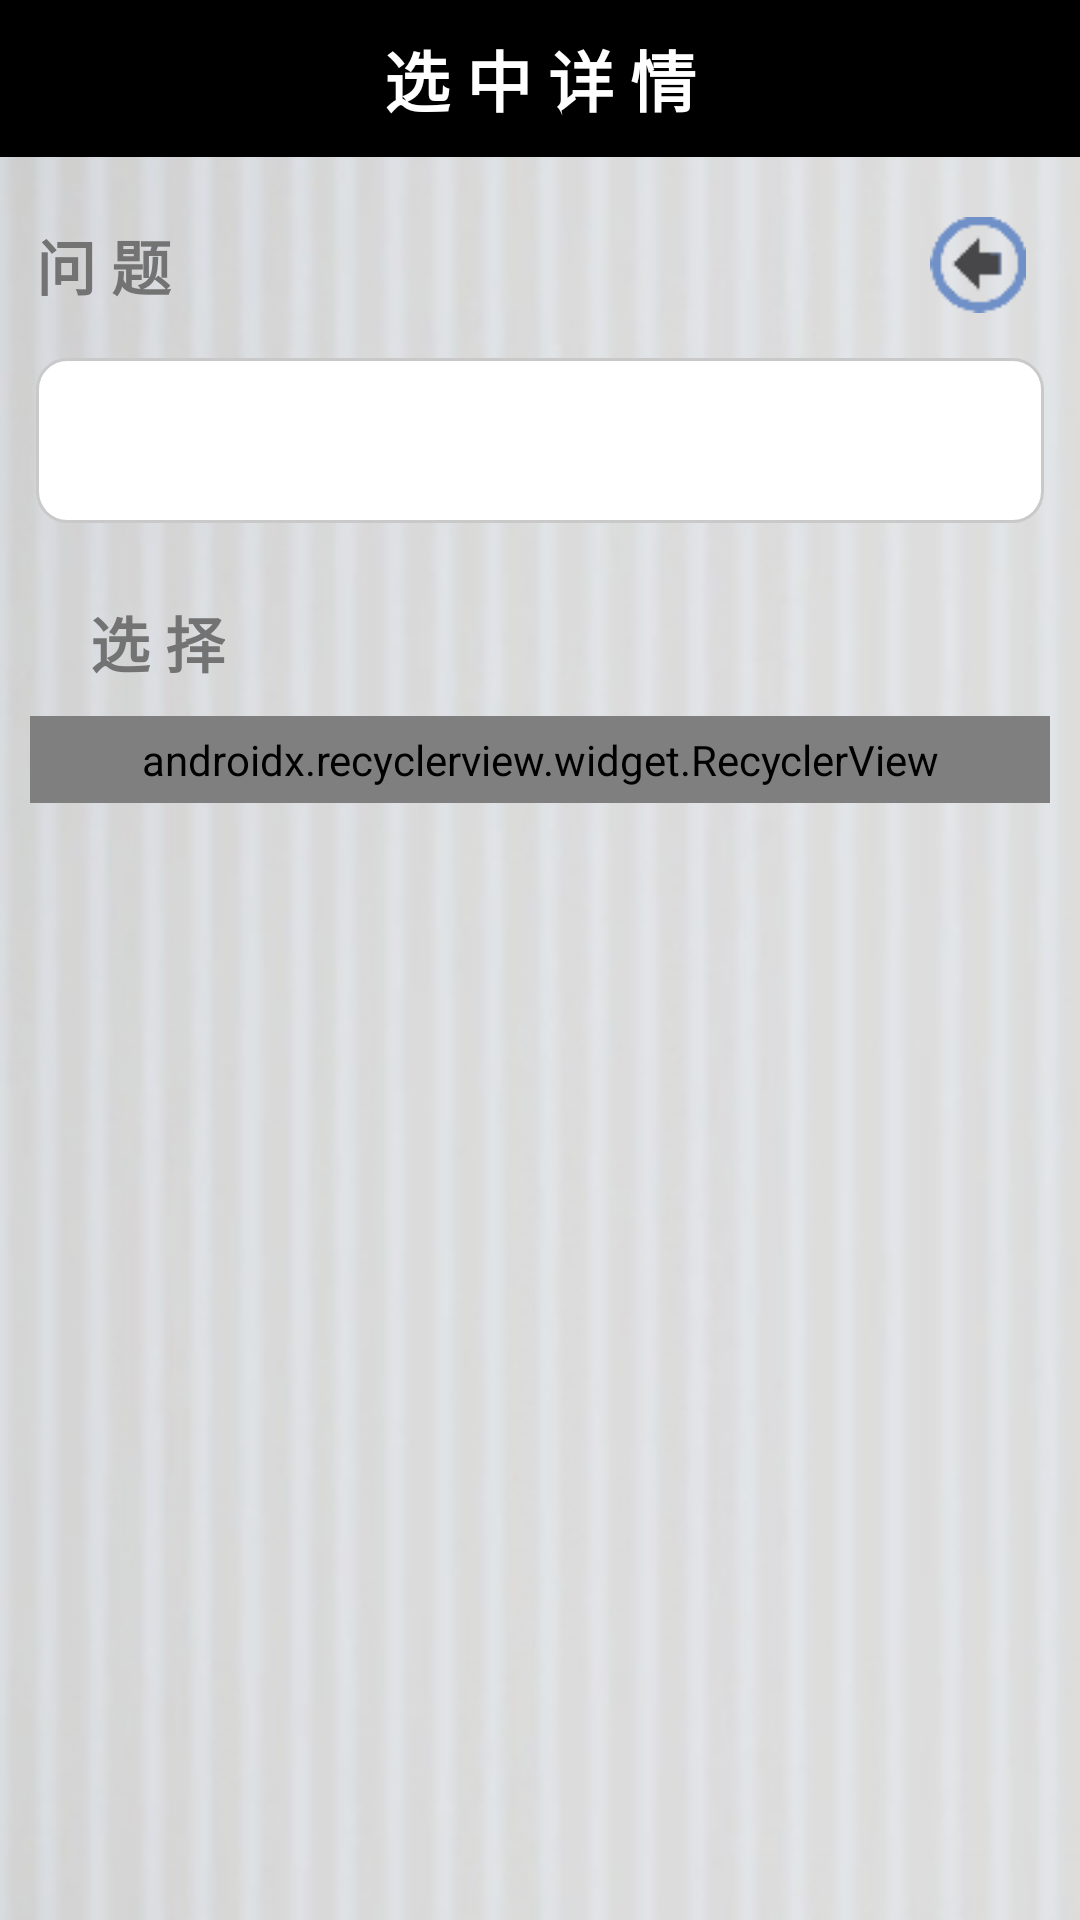

Screen size 1080w x 1920h. Icon name, then its center in pixels as (x,y):
return: (978,265)
